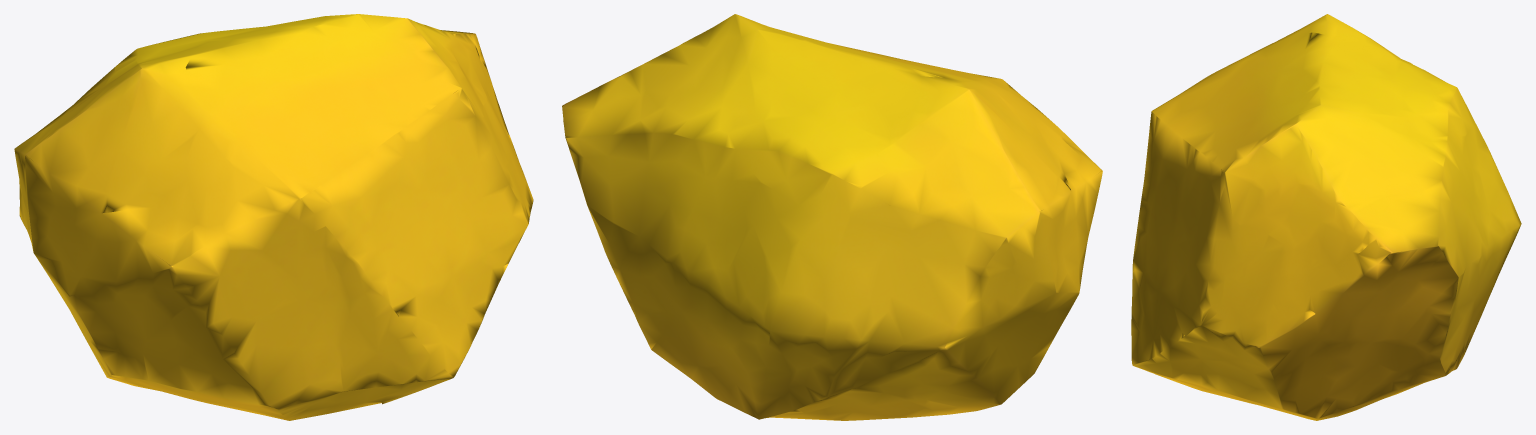
Rendered from gold_nugget.glb.
3 views of the same model, side by side, from view 1: azimuth 30°, elevation 25°; view 2: azimuth 150°, elevation 25°; view 3: azimuth 270°, elevation 25° (orthographic). The views are drawn at different scales.
Parts seen in each view (by area): view 1: Mesh1.0; view 2: Mesh1.0; view 3: Mesh1.0.
Boxes of the visible parts, <box> form: Mesh1.0: <box>14,14,533,420</box>; Mesh1.0: <box>562,14,1102,420</box>; Mesh1.0: <box>1131,14,1521,420</box>.
Size of the model in its own units: 1.18 by 0.8 by 0.9287.
1 material, 1 textured.
